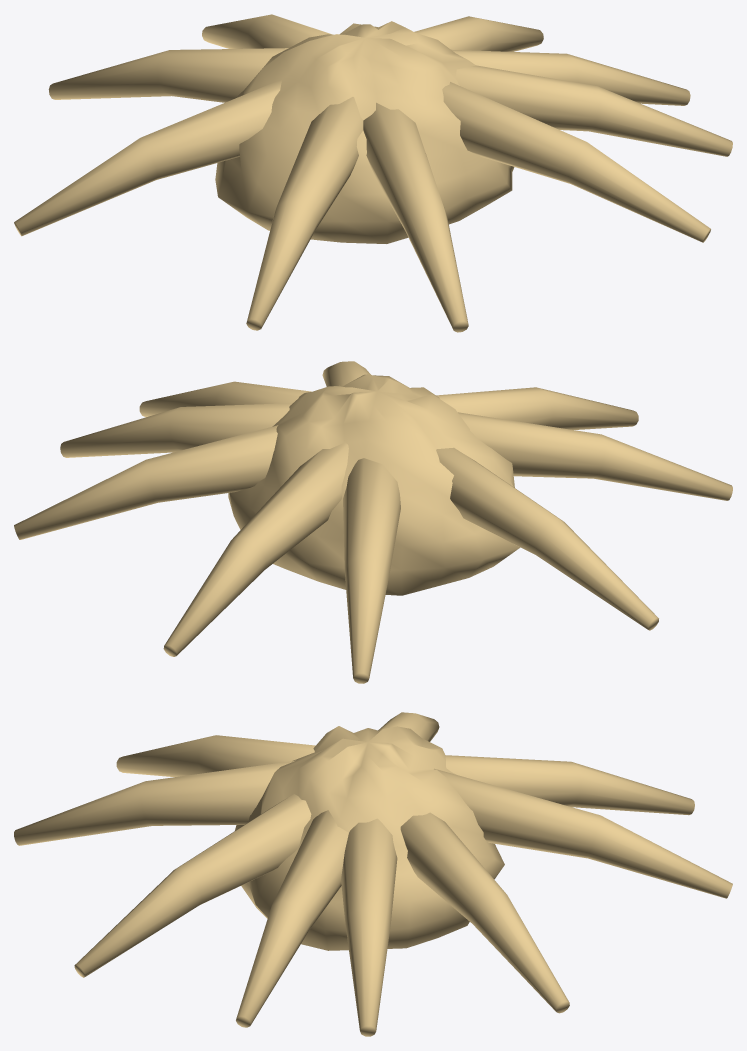
The model's file is driftwood_rootball.glb.
3 renders of one model, top to bottom at view 1: azimuth 30°, elevation 25°; view 2: azimuth 150°, elevation 25°; view 3: azimuth 270°, elevation 25°, orthographic. The views are drawn at different scales.
Visible parts, largest first — view 1: driftwood-rootball_0, driftwood-rootball_4, driftwood-rootball_5, driftwood-rootball_2, driftwood-rootball_9, driftwood-rootball_7, driftwood-rootball_8, driftwood-rootball_1, driftwood-rootball_6, driftwood-rootball_3; view 2: driftwood-rootball_0, driftwood-rootball_6, driftwood-rootball_3, driftwood-rootball_5, driftwood-rootball_2, driftwood-rootball_8, driftwood-rootball_1, driftwood-rootball_7, driftwood-rootball_9, driftwood-rootball_4; view 3: driftwood-rootball_0, driftwood-rootball_3, driftwood-rootball_4, driftwood-rootball_7, driftwood-rootball_6, driftwood-rootball_9, driftwood-rootball_1, driftwood-rootball_8, driftwood-rootball_2, driftwood-rootball_5.
Boxes of the visible parts, <box> form: driftwood-rootball_0: <box>215,21,514,243</box>; driftwood-rootball_4: <box>442,82,710,242</box>; driftwood-rootball_5: <box>14,80,281,236</box>; driftwood-rootball_2: <box>246,97,363,330</box>; driftwood-rootball_9: <box>455,65,732,156</box>; driftwood-rootball_7: <box>363,102,468,332</box>; driftwood-rootball_8: <box>48,48,288,102</box>; driftwood-rootball_1: <box>451,49,690,105</box>; driftwood-rootball_6: <box>414,16,543,51</box>; driftwood-rootball_3: <box>202,14,332,48</box>; driftwood-rootball_0: <box>228,374,520,595</box>; driftwood-rootball_6: <box>14,425,278,539</box>; driftwood-rootball_3: <box>163,440,348,656</box>; driftwood-rootball_5: <box>436,447,658,630</box>; driftwood-rootball_2: <box>458,412,732,500</box>; driftwood-rootball_8: <box>343,458,400,683</box>; driftwood-rootball_1: <box>60,403,292,457</box>; driftwood-rootball_7: <box>436,387,638,429</box>; driftwood-rootball_9: <box>139,381,311,417</box>; driftwood-rootball_4: <box>322,361,370,386</box>; driftwood-rootball_0: <box>235,726,504,950</box>; driftwood-rootball_3: <box>434,768,732,898</box>; driftwood-rootball_4: <box>74,794,311,977</box>; driftwood-rootball_7: <box>14,760,295,845</box>; driftwood-rootball_6: <box>400,812,569,1013</box>; driftwood-rootball_9: <box>236,810,348,1027</box>; driftwood-rootball_1: <box>341,818,397,1036</box>; driftwood-rootball_8: <box>445,755,694,815</box>; driftwood-rootball_2: <box>116,735,315,777</box>; driftwood-rootball_5: <box>378,712,439,741</box>.
Size of the model in its own units: 1.6 by 0.3684 by 1.58.
